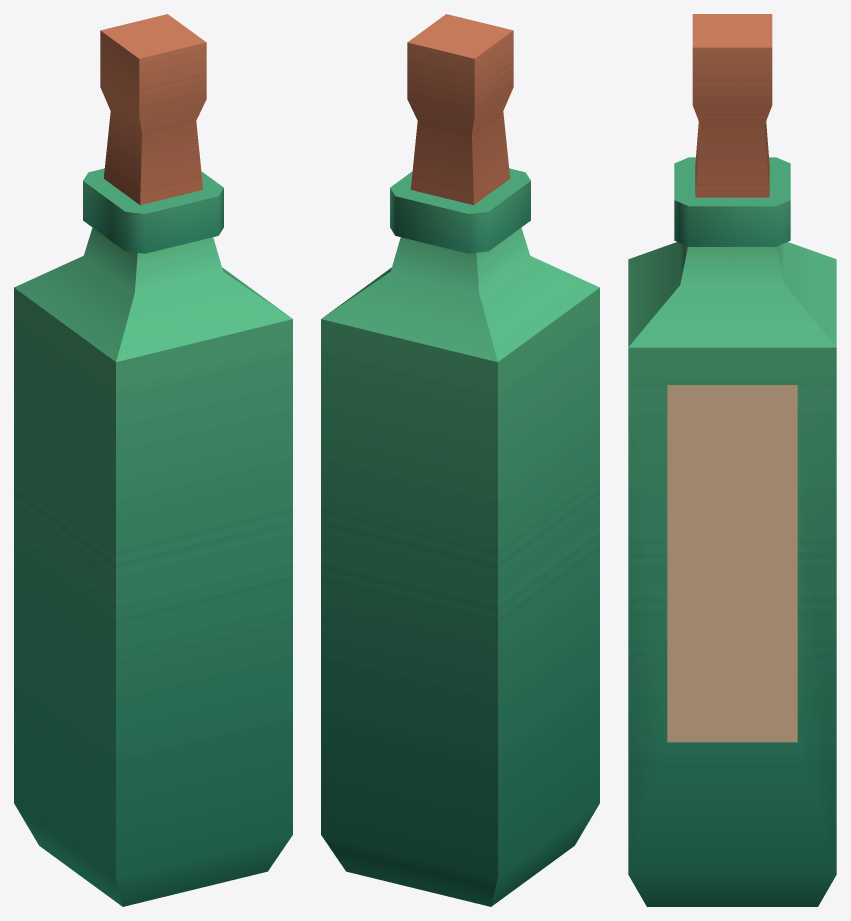
The model's file is bottle-oil.glb.
3 views of the same model, side by side, from view 1: azimuth 30°, elevation 25°; view 2: azimuth 150°, elevation 25°; view 3: azimuth 270°, elevation 25° (orthographic). The views are drawn at different scales.
Parts seen in each view (by area): view 1: bottle-oil; view 2: bottle-oil; view 3: bottle-oil.
Boxes of the visible parts, box(x1,y1,x2,y2) form: bottle-oil: box(14, 14, 292, 906); bottle-oil: box(321, 14, 599, 906); bottle-oil: box(628, 14, 836, 906).
Size of the model in its own units: 0.14 by 0.6218 by 0.14.
1 material, 1 textured.
